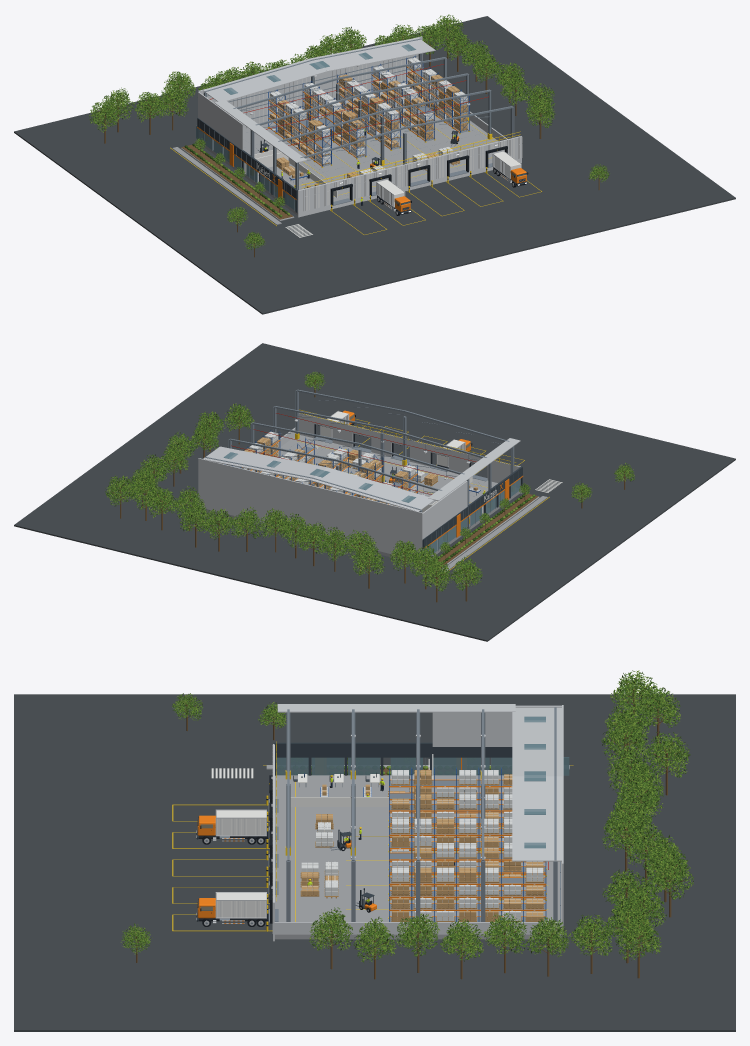
Rendered from 3d-jutsu-KaizenX-Warehouse-Reference-Cutaway-2026-11-13-05-53-59.glb.
The picture shows the model from 3 angles, top to bottom: view 1: azimuth 30°, elevation 25°; view 2: azimuth 150°, elevation 25°; view 3: azimuth 270°, elevation 25°; orthographic projection. The views are drawn at different scales.
Visible parts, largest first — view 1: ENV_truck_apron, HERO_raised_warehouse_slab, North_insulated_wall, Cutaway_roof_north_panel, Cutaway_roof_north_panel001, Dock_header, West_retained_upper_wall, West_charcoal_fascia, Cutaway_west_roof_strip, Office_planter_soil, Dock_continuous_plinth, Office_sidewalk (+1 smaller); view 2: ENV_truck_apron, North_insulated_wall, HERO_raised_warehouse_slab, Cutaway_roof_north_panel, Cutaway_roof_north_panel001, Dock_header, West_retained_upper_wall, West_charcoal_fascia, Cutaway_west_roof_strip, Office_planter_soil, Office_sidewalk; view 3: ENV_truck_apron, HERO_raised_warehouse_slab, Cutaway_roof_north_panel001, Cutaway_roof_north_panel, West_charcoal_fascia, West_retained_upper_wall, Delivery_truck_complete_assembly_1 (×2), East_cutaway_sill, Delivery_truck_complete_assembly_2 (×2), Cutaway_west_roof_strip, Office_interior_low_partition, Office_curtain_glazing001 (+2 smaller).
Boxes of the visible parts, x1,y1,x2,y2 form: ENV_truck_apron: [14, 16, 735, 314]; HERO_raised_warehouse_slab: [202, 88, 504, 215]; North_insulated_wall: [198, 36, 422, 128]; Cutaway_roof_north_panel: [203, 58, 327, 101]; Cutaway_roof_north_panel001: [310, 37, 435, 71]; Dock_header: [298, 136, 521, 198]; West_retained_upper_wall: [198, 92, 243, 150]; West_charcoal_fascia: [197, 118, 297, 199]; Cutaway_west_roof_strip: [214, 100, 307, 162]; Office_planter_soil: [181, 145, 293, 219]; Dock_continuous_plinth: [297, 158, 521, 217]; Office_sidewalk: [172, 147, 281, 224]; ENV_truck_apron: [14, 343, 735, 641]; North_insulated_wall: [198, 458, 422, 558]; HERO_raised_warehouse_slab: [201, 435, 521, 563]; Cutaway_roof_north_panel: [310, 467, 434, 511]; Cutaway_roof_north_panel001: [203, 446, 327, 480]; Dock_header: [299, 413, 520, 471]; West_retained_upper_wall: [422, 481, 467, 539]; West_charcoal_fascia: [422, 466, 522, 548]; Cutaway_west_roof_strip: [428, 438, 520, 500]; Office_planter_soil: [429, 493, 538, 565]; Office_sidewalk: [442, 496, 547, 571]; ENV_truck_apron: [14, 694, 735, 1031]; HERO_raised_warehouse_slab: [275, 775, 562, 939]; Cutaway_roof_north_panel001: [512, 776, 562, 861]; Cutaway_roof_north_panel: [512, 707, 562, 776]; West_charcoal_fascia: [274, 742, 512, 757]; West_retained_upper_wall: [432, 705, 561, 746]; Delivery_truck_complete_assembly_1 (×2): [216, 810, 266, 923]; East_cutaway_sill: [274, 922, 562, 934]; Delivery_truck_complete_assembly_2 (×2): [204, 809, 266, 925]; Cutaway_west_roof_strip: [277, 704, 515, 712]; Office_interior_low_partition: [290, 797, 432, 806]; Office_curtain_glazing001: [311, 757, 344, 775].
Bounding box in the file's own units: 110 × 13.46 × 100.
